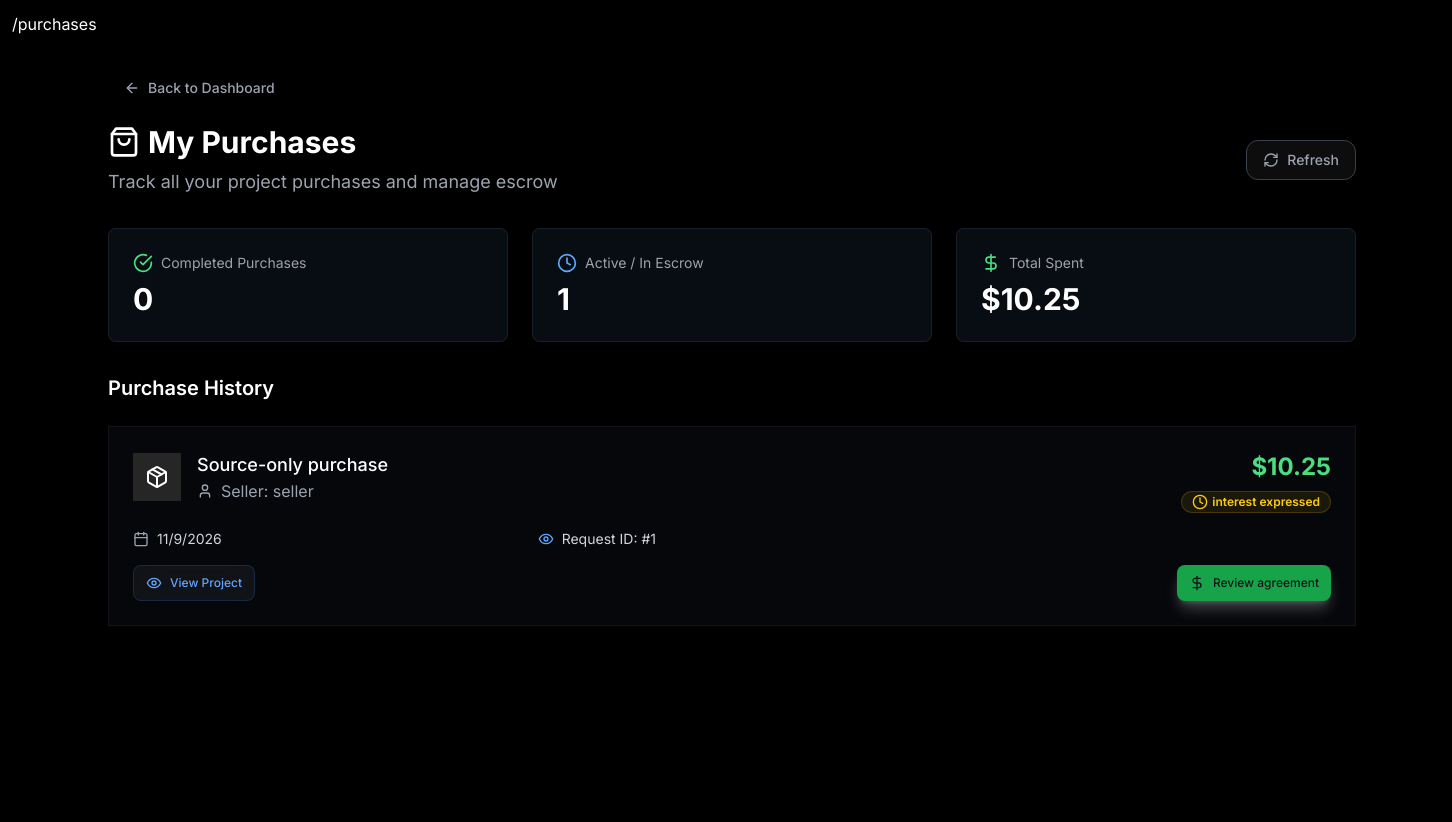
Test case: unpaid purchase actions open the agreement instead of creating a checkout session
This screenshot has width=1452, height=822.
Expected: the heading "Source-only purchase" is shown, top-left (197, 451), bottom-right (388, 479)
Click the button "Review agreement" at (1254, 583), box top-left (1177, 565), bottom-right (1331, 601)
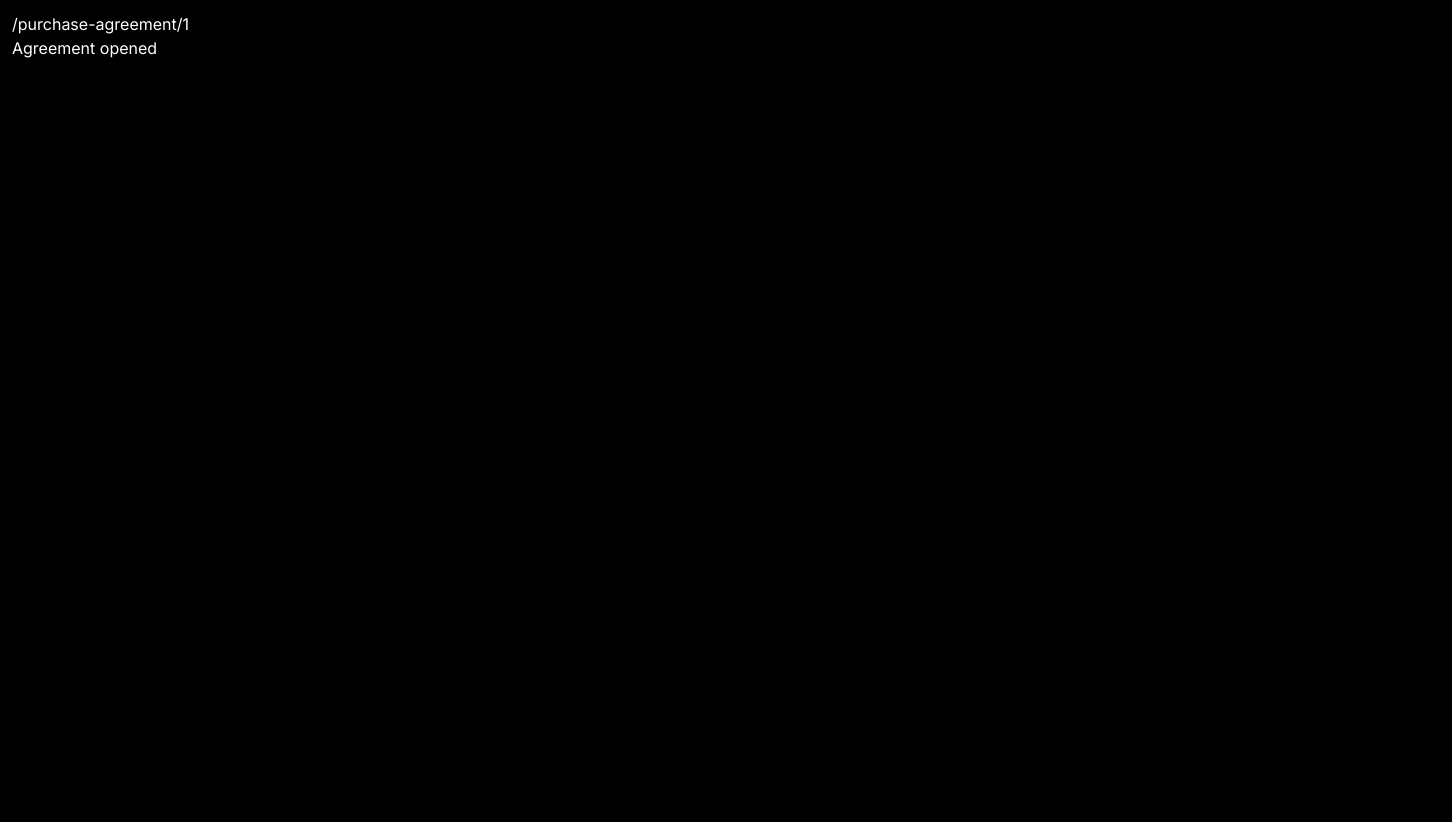
Expected: the text "Agreement opened" is shown, top-left (12, 38), bottom-right (157, 58)
